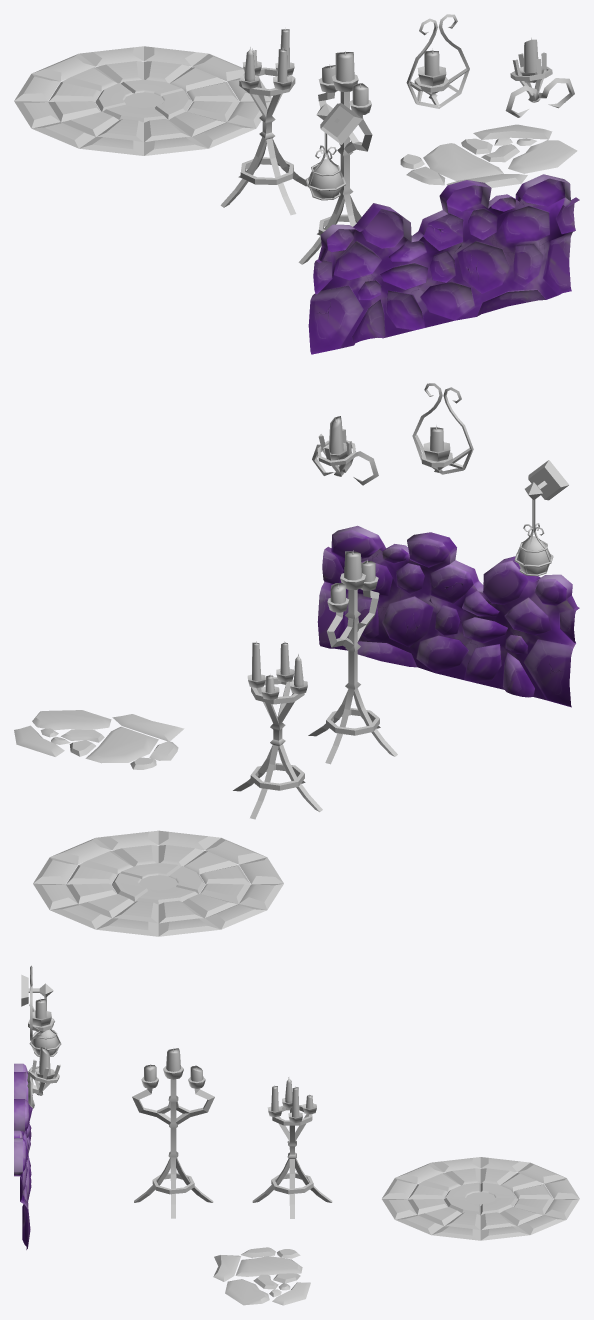
File: DungeonProps_2.fbx
3 views of the same model, one above another, from view 1: azimuth 30°, elevation 25°; view 2: azimuth 150°, elevation 25°; view 3: azimuth 270°, elevation 25° (orthographic). The views are drawn at different scales.
Visible parts, largest first — view 1: Dungeon_RockWall_Boundary:polySurface1, pCylinder37, polySurface43, Dungeon_Candle_Stand_02:polySurface1, Dungeon_Candle_Stand_01:polySurface1, Dungeon_Candle_Sconce_03:polySurface1, Dungeon_Candle_Sconce_01:polySurface1, Dungeon_Candle_Sconce_02:polySurface1; view 2: Dungeon_RockWall_Boundary:polySurface1, pCylinder37, polySurface43, Dungeon_Candle_Stand_01:polySurface1, Dungeon_Candle_Stand_02:polySurface1, Dungeon_Candle_Sconce_03:polySurface1, Dungeon_Candle_Sconce_01:polySurface1, Dungeon_Candle_Sconce_02:polySurface1; view 3: pCylinder37, polySurface43, Dungeon_Candle_Stand_01:polySurface1, Dungeon_Candle_Stand_02:polySurface1, Dungeon_RockWall_Boundary:polySurface1, Dungeon_Candle_Sconce_02:polySurface1, Dungeon_Candle_Sconce_03:polySurface1, Dungeon_Candle_Sconce_01:polySurface1.
Part boxes in pixels (bbox=[...]): Dungeon_RockWall_Boundary:polySurface1: bbox=[308, 174, 579, 354]; pCylinder37: bbox=[14, 46, 271, 155]; polySurface43: bbox=[400, 124, 577, 187]; Dungeon_Candle_Stand_02:polySurface1: bbox=[220, 27, 307, 215]; Dungeon_Candle_Stand_01:polySurface1: bbox=[298, 51, 372, 264]; Dungeon_Candle_Sconce_03:polySurface1: bbox=[305, 103, 362, 200]; Dungeon_Candle_Sconce_01:polySurface1: bbox=[406, 14, 469, 108]; Dungeon_Candle_Sconce_02:polySurface1: bbox=[505, 37, 574, 117]; Dungeon_RockWall_Boundary:polySurface1: bbox=[317, 525, 579, 707]; pCylinder37: bbox=[33, 830, 283, 936]; polySurface43: bbox=[14, 710, 184, 769]; Dungeon_Candle_Stand_01:polySurface1: bbox=[308, 550, 397, 764]; Dungeon_Candle_Stand_02:polySurface1: bbox=[233, 641, 322, 819]; Dungeon_Candle_Sconce_03:polySurface1: bbox=[514, 460, 568, 576]; Dungeon_Candle_Sconce_01:polySurface1: bbox=[412, 383, 473, 474]; Dungeon_Candle_Sconce_02:polySurface1: bbox=[312, 416, 378, 485]; pCylinder37: bbox=[382, 1157, 579, 1240]; polySurface43: bbox=[213, 1247, 310, 1305]; Dungeon_Candle_Stand_01:polySurface1: bbox=[132, 1048, 214, 1218]; Dungeon_Candle_Stand_02:polySurface1: bbox=[252, 1077, 332, 1218]; Dungeon_RockWall_Boundary:polySurface1: bbox=[14, 1063, 32, 1249]; Dungeon_Candle_Sconce_02:polySurface1: bbox=[27, 1046, 60, 1108]; Dungeon_Candle_Sconce_03:polySurface1: bbox=[21, 974, 61, 1056]; Dungeon_Candle_Sconce_01:polySurface1: bbox=[28, 965, 53, 1040].
Size of the model in its own units: 4.04 by 2.87 by 6.35.
